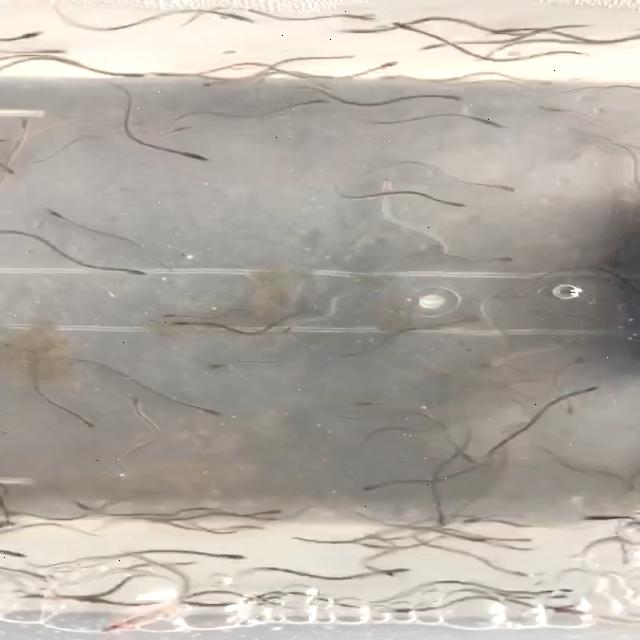active_glass_eel: (169, 320, 215, 348), (100, 612, 152, 632), (58, 412, 108, 431), (272, 316, 314, 338), (192, 397, 230, 421), (330, 393, 384, 409), (177, 144, 215, 166), (439, 342, 492, 357), (492, 176, 528, 198), (124, 260, 156, 284), (230, 10, 272, 28), (117, 392, 155, 410), (250, 502, 292, 518), (380, 562, 418, 579), (40, 203, 75, 221), (445, 452, 487, 466), (298, 94, 330, 112), (437, 192, 469, 210), (288, 533, 324, 549), (435, 305, 463, 325), (360, 474, 388, 494), (438, 89, 472, 105), (478, 114, 508, 132), (222, 524, 266, 536), (388, 17, 418, 34), (420, 43, 454, 58), (220, 548, 254, 563), (580, 381, 608, 399), (10, 26, 50, 38), (377, 56, 411, 70), (518, 307, 554, 320), (353, 10, 379, 27), (538, 94, 558, 116), (506, 568, 542, 580), (496, 252, 522, 268), (512, 546, 544, 559), (141, 308, 182, 318), (118, 66, 146, 80), (194, 77, 222, 91), (379, 75, 411, 86), (557, 408, 582, 420), (171, 124, 195, 134), (516, 534, 540, 544), (46, 46, 68, 54), (14, 116, 36, 122)
